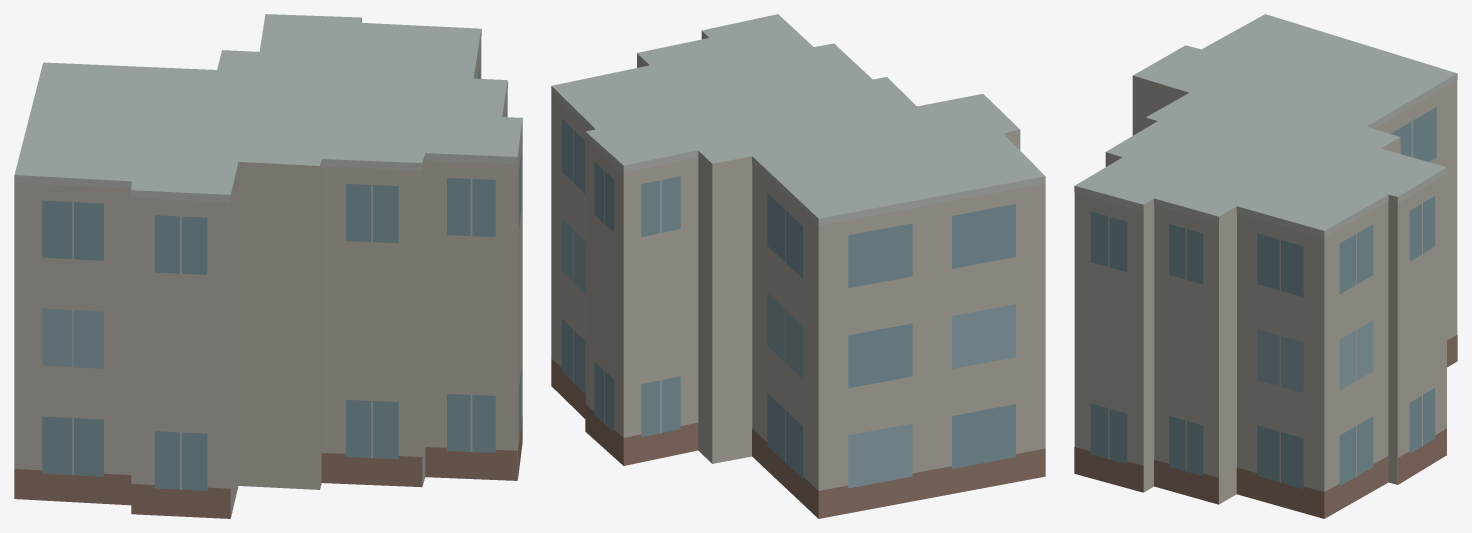
File: survey-upis-32473710.glb
The picture shows the model from 3 angles, left to right: view 1: azimuth 30°, elevation 25°; view 2: azimuth 150°, elevation 25°; view 3: azimuth 270°, elevation 25°; orthographic projection. The views are drawn at different scales.
Visible parts, largest first — view 1: survey-upis-32473710.tmp; view 2: survey-upis-32473710.tmp; view 3: survey-upis-32473710.tmp.
Boxes of the visible parts, x1,y1,x2,y2 form: survey-upis-32473710.tmp: (14,14,522,518); survey-upis-32473710.tmp: (551,14,1045,518); survey-upis-32473710.tmp: (1074,14,1457,518).
Size of the model in its own units: 17.05 by 10.55 by 12.72.
